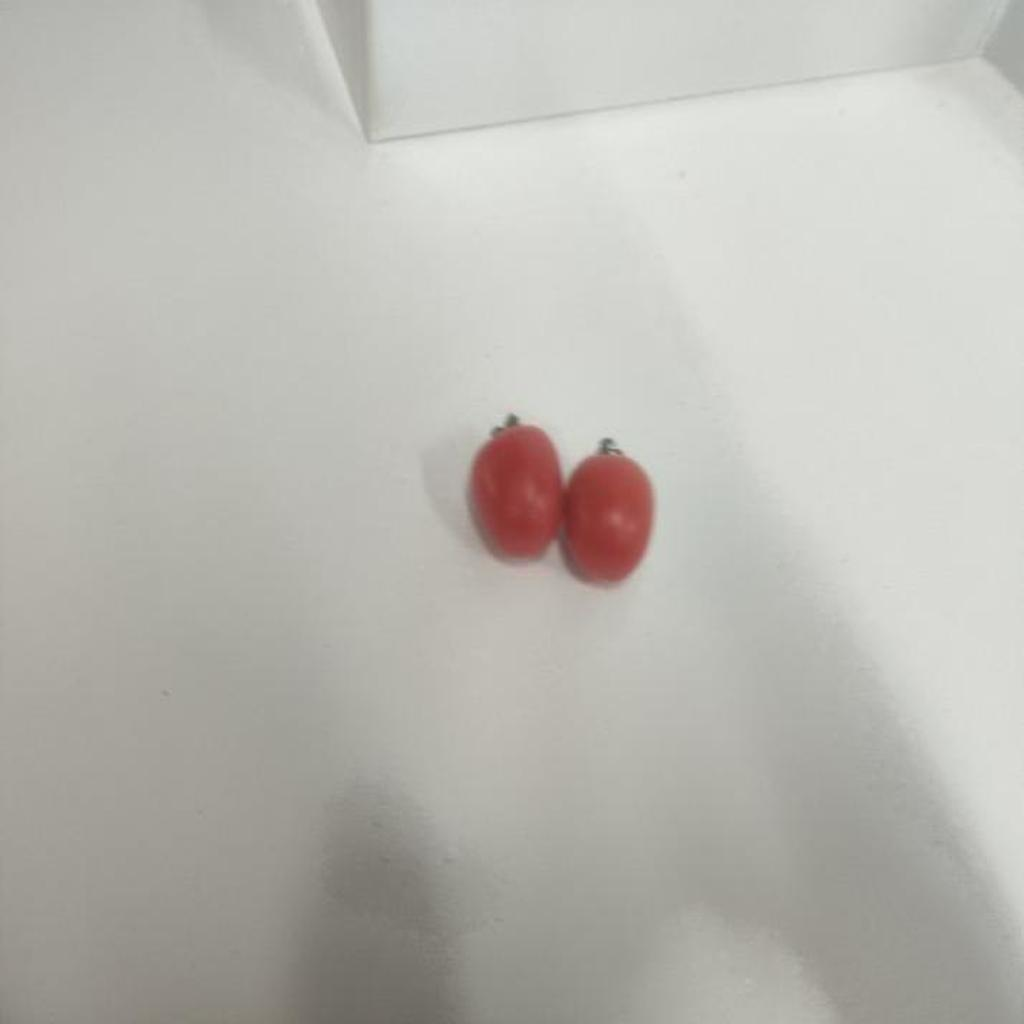tomato: (559, 447, 671, 580), (474, 418, 567, 558)
